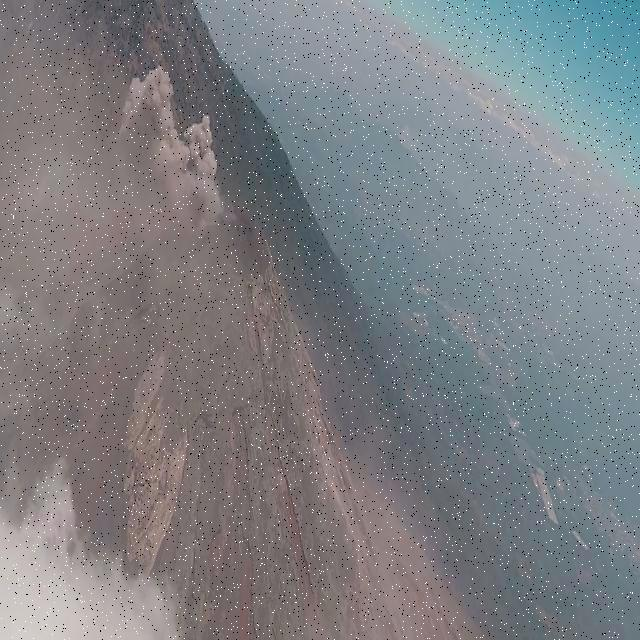Plume: (117, 61, 222, 226)
Summit: (0, 182, 494, 640)
